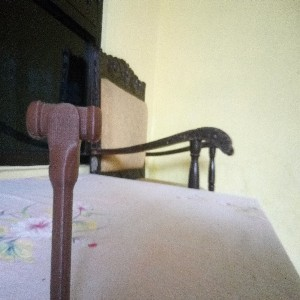palu: (24, 100, 101, 300)
